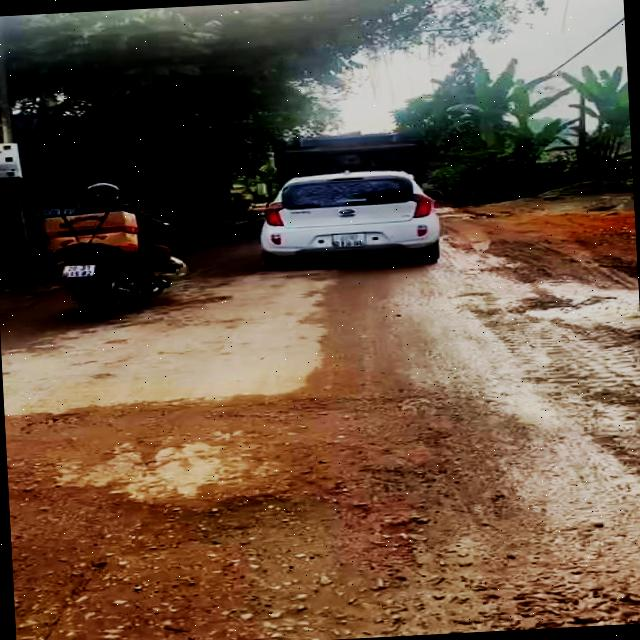pothole: (8, 475, 185, 640)
